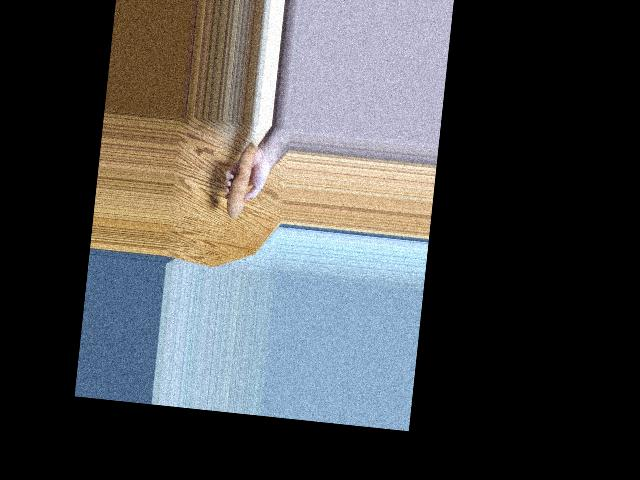sweet_potato: (220, 144, 258, 219)
